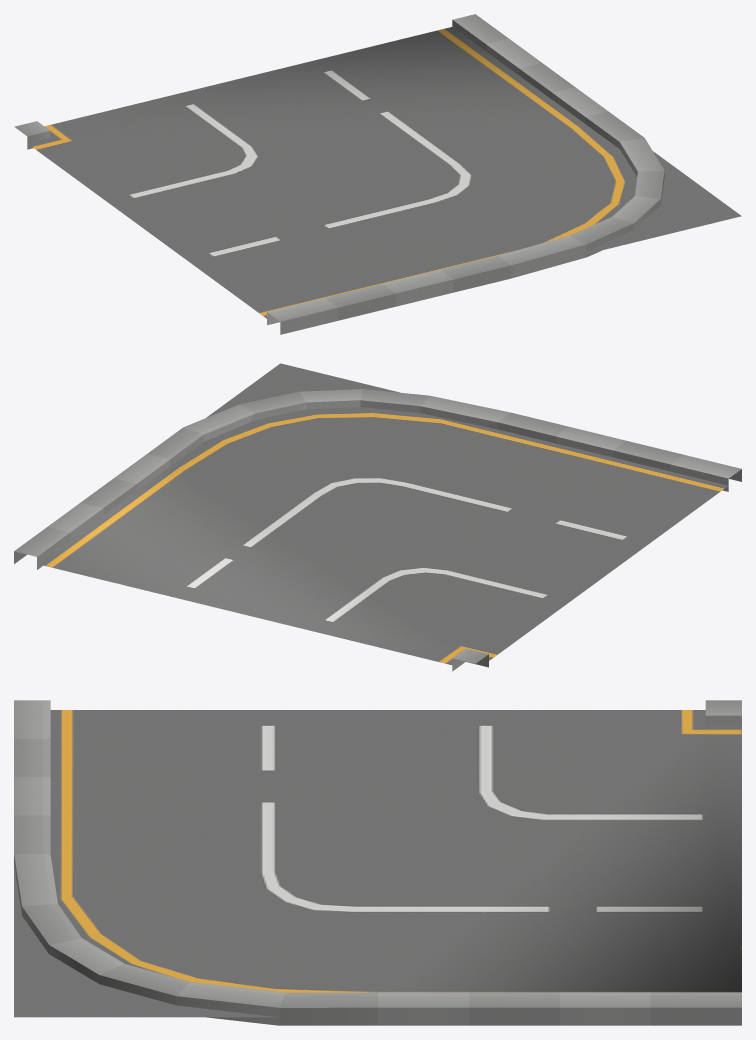
The model's file is Road_F.fbx.
3 renders of one model, top to bottom at view 1: azimuth 30°, elevation 25°; view 2: azimuth 150°, elevation 25°; view 3: azimuth 270°, elevation 25°, orthographic. The views are drawn at different scales.
Visible parts, largest first — view 1: Road_F; view 2: Road_F; view 3: Road_F.
Part boxes in pixels (left/top/right/bottom): Road_F: left=14, top=14, right=741, bottom=334; Road_F: left=14, top=363, right=741, bottom=671; Road_F: left=14, top=700, right=741, bottom=1025.
Bounding box in the file's own units: 2000 × 56.35 × 2000.
